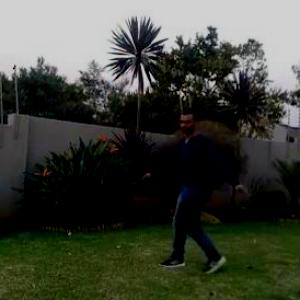land: (135, 93, 257, 295)
